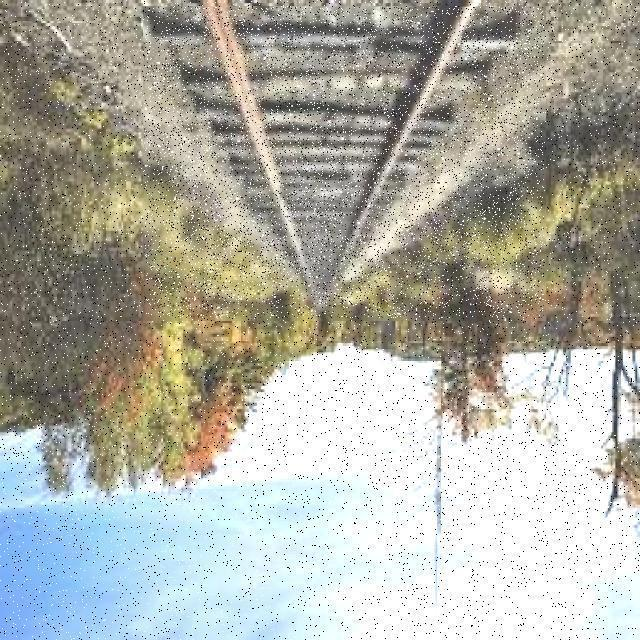rail: (146, 9, 545, 319)
